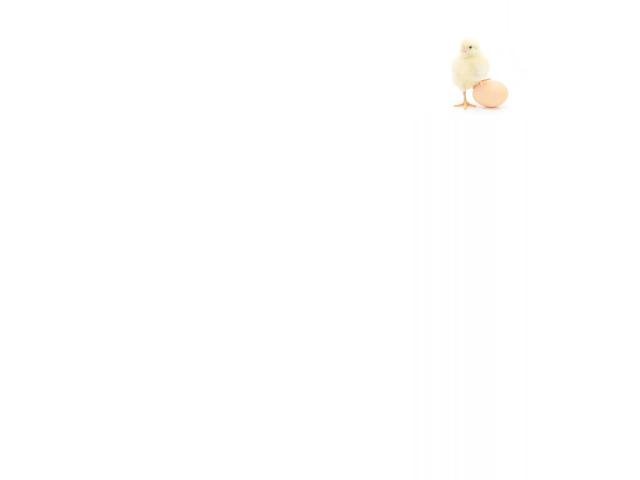egg: (471, 79, 508, 107)
